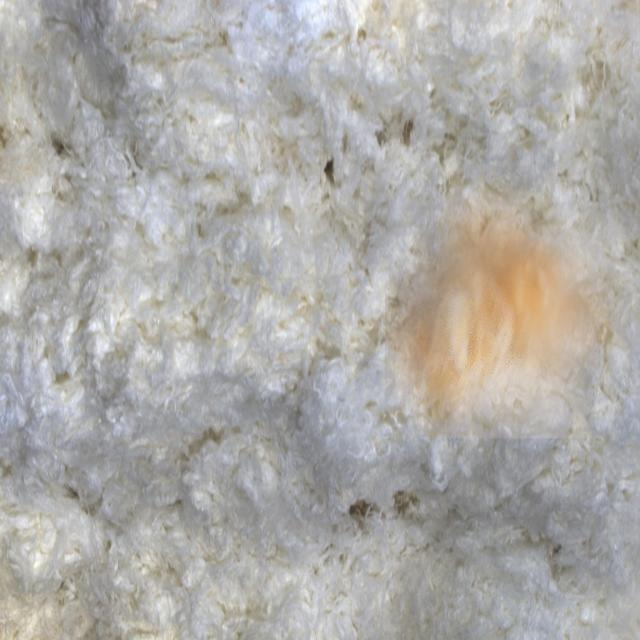dust: (385, 167, 630, 438)
